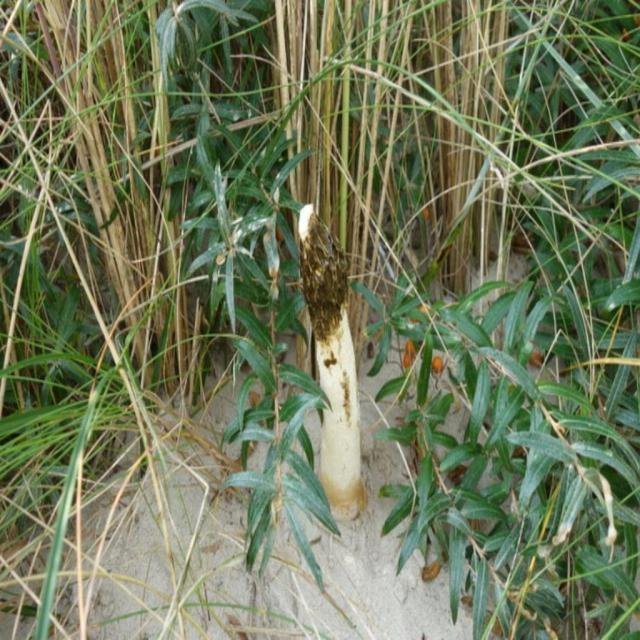Dictyophora indusiate: (293, 207, 367, 511)
